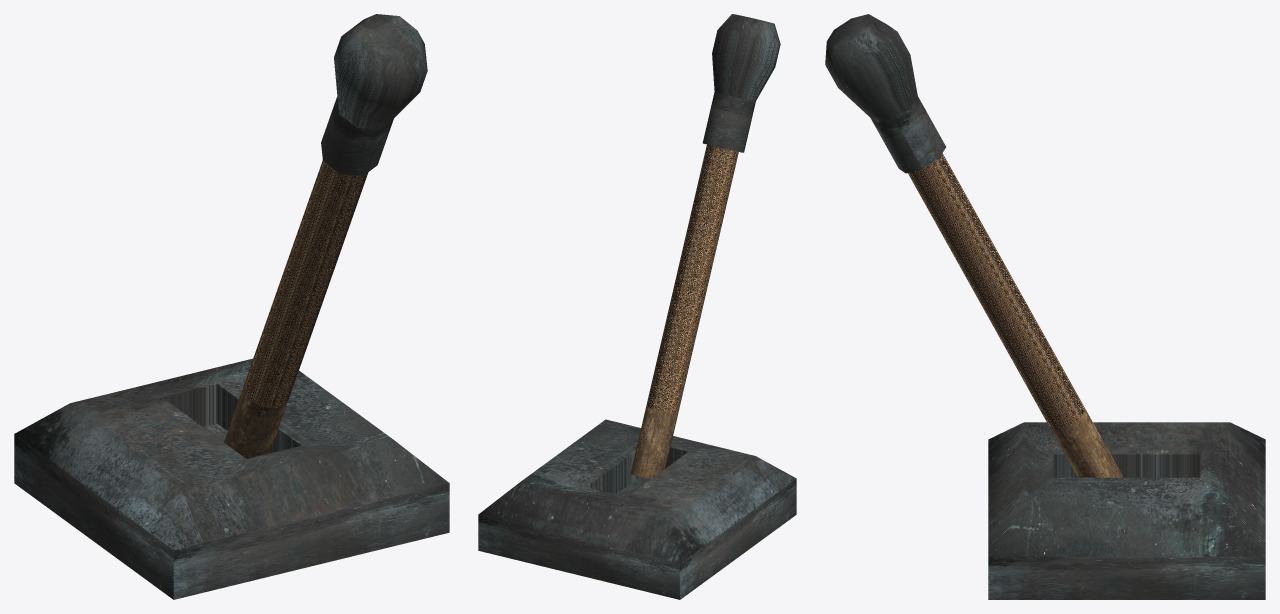
The model's file is lever1.fbx.
3 views of the same model, side by side, from view 1: azimuth 30°, elevation 25°; view 2: azimuth 150°, elevation 25°; view 3: azimuth 270°, elevation 25° (orthographic). The views are drawn at different scales.
Visible parts, largest first — view 1: bottom, stick, header; view 2: bottom, stick, header; view 3: bottom, stick, header.
Part boxes in pixels (x1,y1,x2,y2): bottom: (14, 358, 449, 599); stick: (224, 160, 368, 458); header: (321, 14, 427, 176); bottom: (478, 419, 796, 599); stick: (630, 144, 738, 478); header: (702, 14, 780, 152); bottom: (988, 422, 1265, 599); stick: (908, 153, 1122, 477); header: (825, 14, 945, 173).
Bounding box in the file's own units: 144 × 299 × 228.
Materials: 3 (3 with a texture image).
